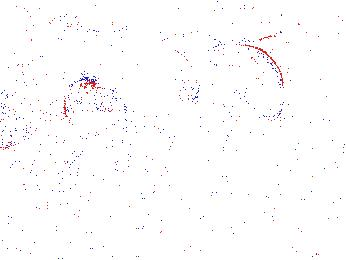moon jellyfish: (206, 43, 286, 122), (117, 42, 200, 105), (45, 112, 136, 163), (149, 89, 232, 141), (1, 64, 49, 151), (63, 79, 122, 129)
